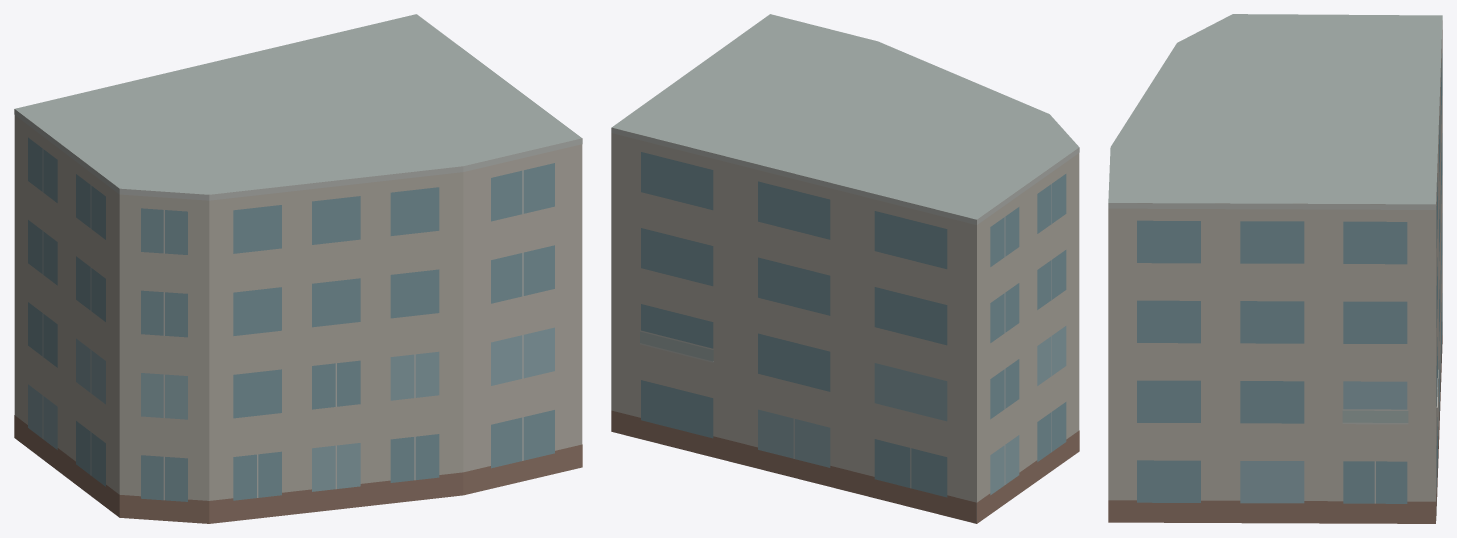
The model's file is survey-upis-32624264.glb.
3 renders of one model, left to right at view 1: azimuth 30°, elevation 25°; view 2: azimuth 150°, elevation 25°; view 3: azimuth 270°, elevation 25°, orthographic. The views are drawn at different scales.
Parts seen in each view (by area): view 1: survey-upis-32624264.tmp; view 2: survey-upis-32624264.tmp; view 3: survey-upis-32624264.tmp.
Boxes of the visible parts, bbox=[...] form: survey-upis-32624264.tmp: bbox=[14, 14, 582, 523]; survey-upis-32624264.tmp: bbox=[611, 14, 1079, 523]; survey-upis-32624264.tmp: bbox=[1108, 14, 1442, 523].
Bounding box in the file's own units: 17.46 × 13.64 × 12.95.
